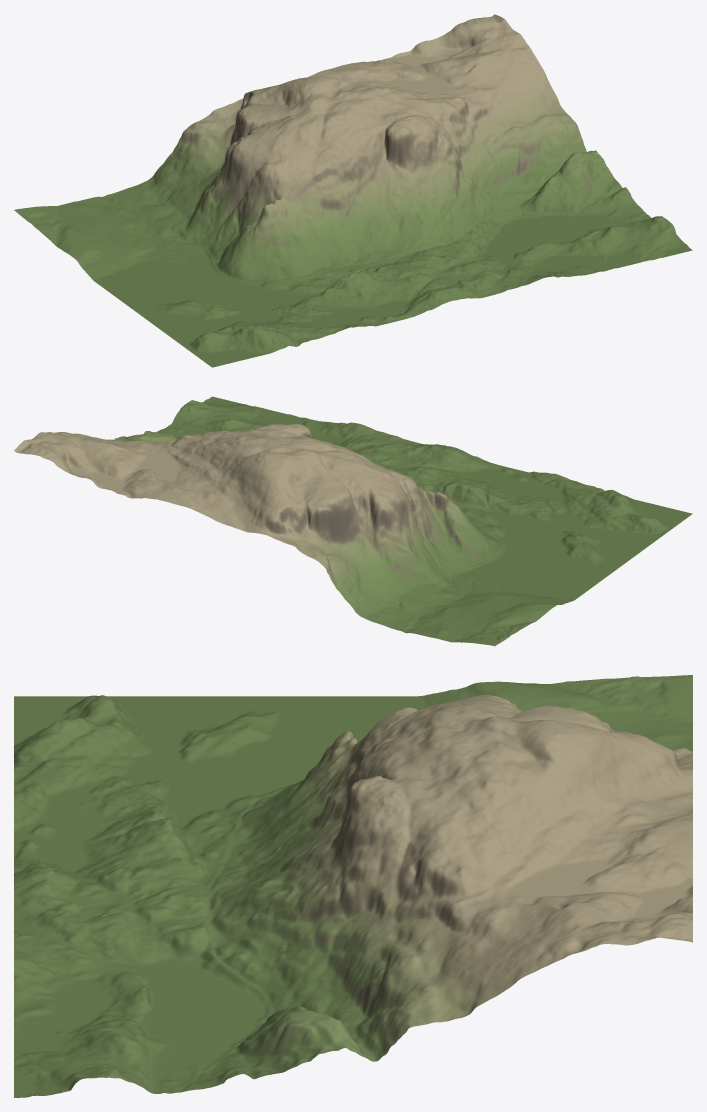
Rendered from bergura-header-1750x1250.glb.
3 views of the same model, one above another, from view 1: azimuth 30°, elevation 25°; view 2: azimuth 150°, elevation 25°; view 3: azimuth 270°, elevation 25° (orthographic). The views are drawn at different scales.
Parts seen in each view (by area): view 1: terrain_chunk_3, terrain_chunk_0, terrain_chunk_2, terrain_chunk_1; view 2: terrain_chunk_0, terrain_chunk_2, terrain_chunk_1, terrain_chunk_3; view 3: terrain_chunk_1, terrain_chunk_3, terrain_chunk_2, terrain_chunk_0.
Part boxes in pixels (box(x1,y1,x2,y2)): terrain_chunk_3: box(353, 133, 692, 300); terrain_chunk_0: box(14, 85, 353, 294); terrain_chunk_2: box(113, 169, 452, 367); terrain_chunk_1: box(275, 14, 586, 178); terrain_chunk_0: box(254, 446, 593, 646); terrain_chunk_2: box(408, 447, 692, 586); terrain_chunk_1: box(14, 423, 340, 532); terrain_chunk_3: box(114, 396, 451, 476); terrain_chunk_1: box(353, 717, 692, 1061); terrain_chunk_3: box(14, 783, 353, 1097); terrain_chunk_2: box(14, 695, 353, 885); terrain_chunk_0: box(353, 675, 692, 781).
Size of the model in its own units: 1750 by 379 by 1250.
